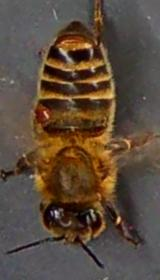varroa_mite: (30, 97, 57, 128)
